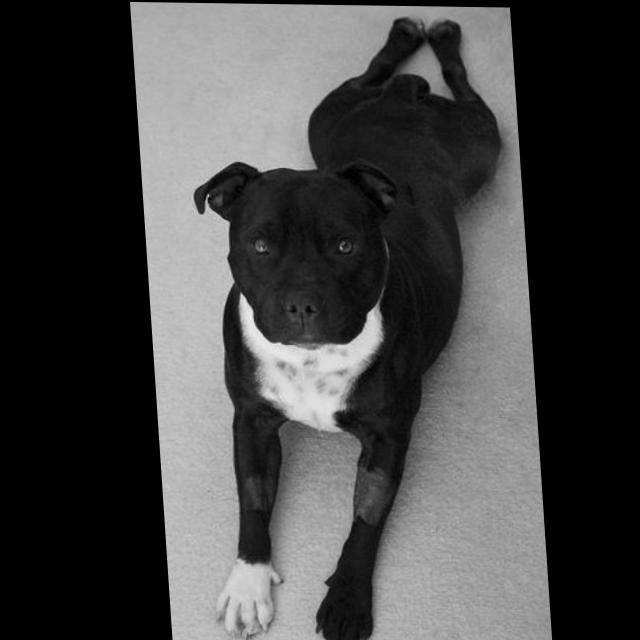staffford: (174, 11, 528, 640)
